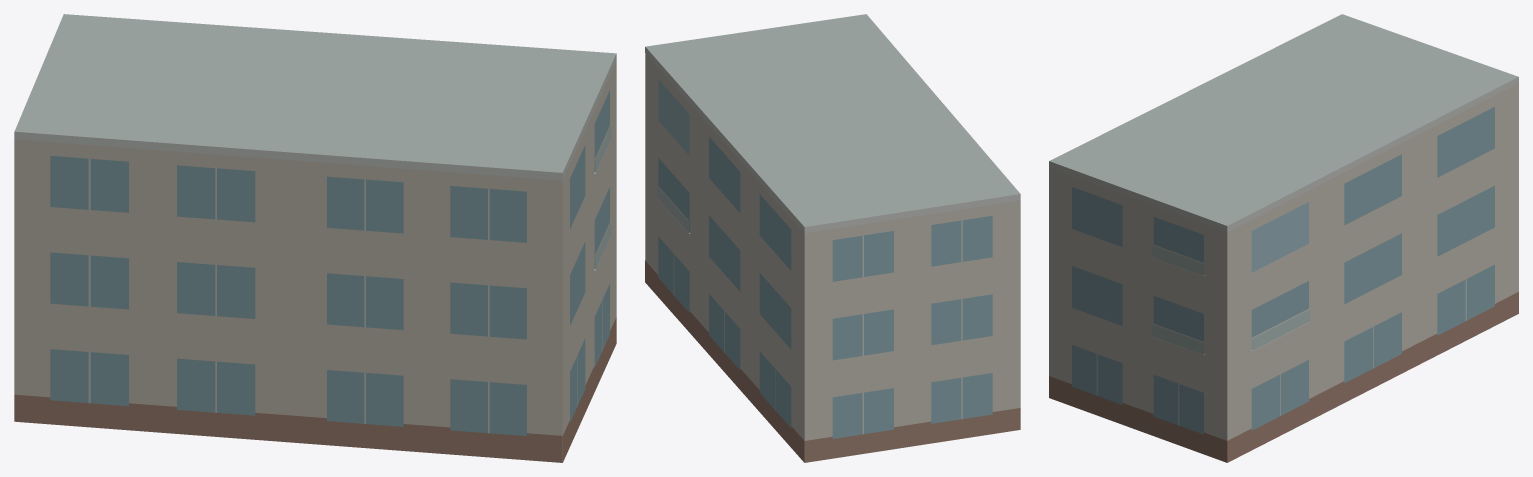
File: survey-upis-32681163.glb
The picture shows the model from 3 angles, left to right: view 1: azimuth 30°, elevation 25°; view 2: azimuth 150°, elevation 25°; view 3: azimuth 270°, elevation 25°; orthographic projection. The views are drawn at different scales.
Visible parts, largest first — view 1: survey-upis-32681163.tmp; view 2: survey-upis-32681163.tmp; view 3: survey-upis-32681163.tmp.
Part boxes in pixels (<box>): survey-upis-32681163.tmp: <box>14,14,616,462</box>; survey-upis-32681163.tmp: <box>645,14,1020,462</box>; survey-upis-32681163.tmp: <box>1049,14,1518,462</box>.
Bounding box in the file's own units: 17.57 × 9.15 × 16.45.
